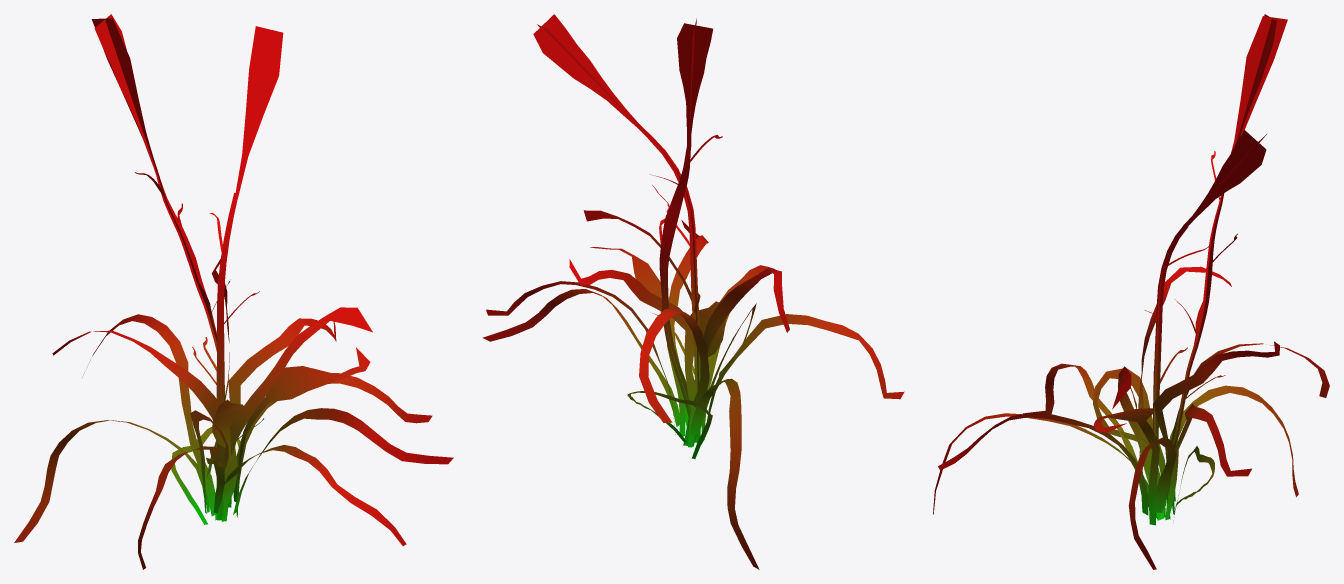
The model's file is sltiN_Var6_LOD0.fbx.
3 views of the same model, side by side, from view 1: azimuth 30°, elevation 25°; view 2: azimuth 150°, elevation 25°; view 3: azimuth 270°, elevation 25° (orthographic).
Visible parts, largest first — view 1: _ff60_Var6_LOD0; view 2: _ff60_Var6_LOD0; view 3: _ff60_Var6_LOD0.
Boxes of the visible parts, x1,y1,x2,y2 form: _ff60_Var6_LOD0: (14,14,453,569); _ff60_Var6_LOD0: (482,14,904,569); _ff60_Var6_LOD0: (933,14,1329,569).
Size of the model in its own units: 21.96 by 30.74 by 21.36.
